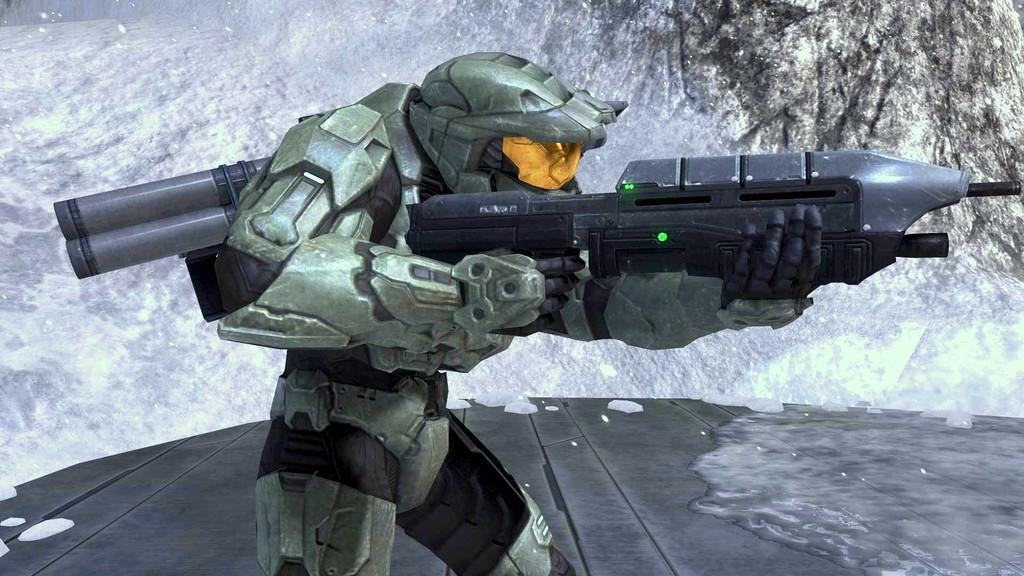Rifle: (268, 122, 1000, 349)
